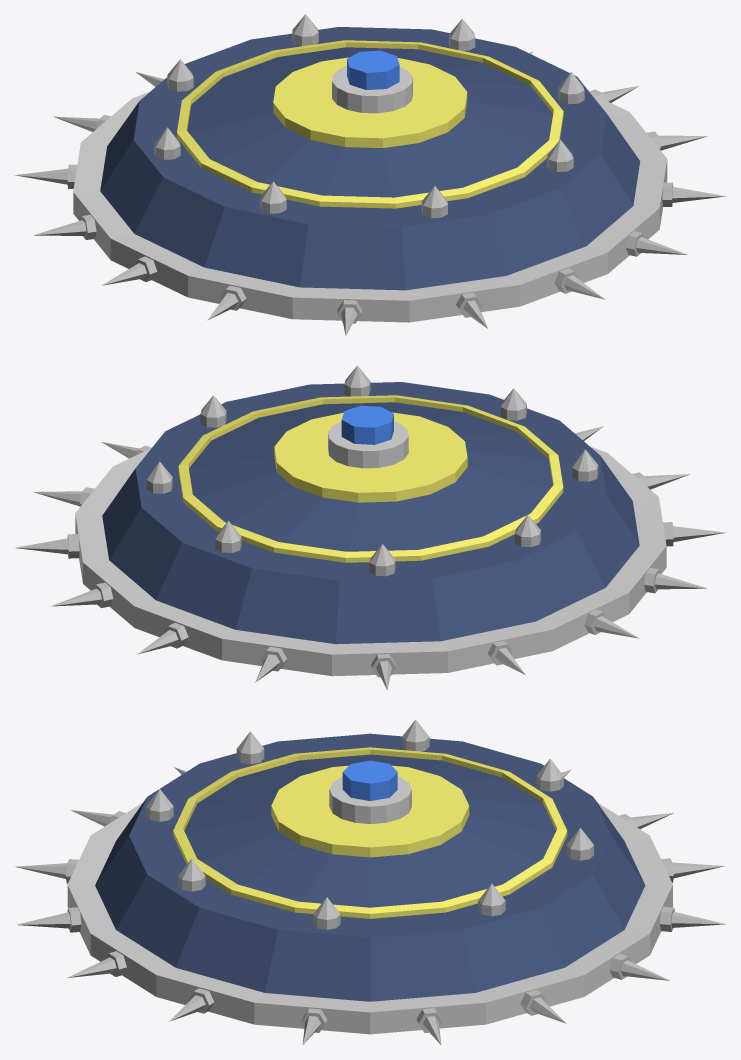
Rendered from Shield_5_e_bl.fbx.
3 renders of one model, top to bottom at view 1: azimuth 30°, elevation 25°; view 2: azimuth 150°, elevation 25°; view 3: azimuth 270°, elevation 25°, orthographic.
Parts seen in each view (by area): view 1: Circle.442, Circle.441, Circle.440, Circle.428, Cone.613, Circle.439, Circle.438, Circle.436, Circle.437, Circle.433, Circle.431, Circle.429 (+3 smaller); view 2: Circle.442, Circle.441, Circle.440, Circle.428, Cone.613, Circle.439, Circle.438, Circle.429, Circle.433, Circle.434, Circle.436, Circle.435 (+3 smaller); view 3: Circle.442, Circle.441, Circle.440, Circle.428, Cone.613, Circle.439, Circle.438, Circle.429, Circle.433, Circle.431, Circle.436, Circle.435 (+3 smaller).
Boxes of the visible parts, x1,y1,x2,y2 form: Circle.442: [100, 27, 640, 290]; Circle.441: [73, 92, 667, 322]; Circle.440: [273, 57, 467, 147]; Circle.428: [177, 40, 563, 208]; Cone.613: [14, 51, 725, 336]; Circle.439: [332, 66, 412, 113]; Circle.438: [347, 50, 399, 89]; Circle.436: [167, 59, 193, 91]; Circle.437: [154, 127, 180, 159]; Circle.433: [558, 71, 584, 104]; Circle.431: [421, 186, 447, 218]; Circle.429: [260, 181, 286, 213]; Circle.442: [102, 382, 639, 644]; Circle.441: [75, 446, 666, 676]; Circle.440: [274, 412, 467, 502]; Circle.428: [178, 395, 563, 562]; Cone.613: [14, 426, 725, 690]; Circle.439: [328, 421, 408, 468]; Circle.438: [341, 405, 393, 444]; Circle.429: [572, 449, 598, 481]; Circle.433: [200, 395, 226, 427]; Circle.434: [146, 461, 172, 493]; Circle.436: [369, 544, 395, 576]; Circle.435: [215, 521, 241, 552]; Circle.442: [95, 733, 645, 1001]; Circle.441: [67, 802, 672, 1034]; Circle.440: [271, 765, 469, 857]; Circle.428: [173, 747, 567, 918]; Cone.613: [15, 767, 725, 1044]; Circle.439: [329, 776, 411, 823]; Circle.438: [342, 760, 397, 800]; Circle.429: [236, 731, 264, 764]; Circle.433: [313, 897, 340, 929]; Circle.431: [146, 789, 173, 821]; Circle.436: [536, 759, 563, 791]; Circle.435: [566, 827, 593, 860].
Size of the model in its own units: 64.58 by 19.57 by 64.77.
